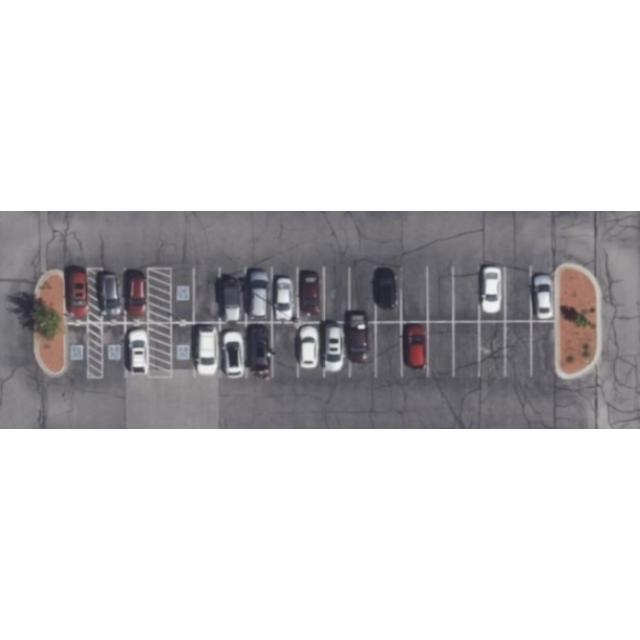Empty: (454, 266, 480, 322), (504, 322, 532, 374), (531, 322, 559, 374), (194, 268, 220, 322), (454, 322, 480, 376), (479, 322, 505, 376), (505, 266, 531, 320), (324, 268, 350, 320), (350, 268, 376, 320), (402, 268, 428, 320), (376, 323, 402, 375), (428, 322, 454, 374), (171, 324, 195, 378), (428, 268, 452, 322), (274, 322, 298, 376), (102, 324, 126, 376), (170, 268, 193, 322), (68, 325, 86, 379)
Parked: (246, 323, 274, 377), (348, 324, 376, 376), (222, 324, 248, 378), (298, 323, 324, 377), (401, 322, 427, 376), (220, 268, 246, 320), (246, 268, 272, 320), (272, 269, 298, 321), (325, 324, 351, 376), (480, 268, 506, 320), (196, 322, 220, 378), (102, 270, 126, 324), (300, 268, 324, 320), (376, 274, 402, 322), (532, 268, 556, 320), (68, 268, 88, 322), (128, 268, 148, 322), (128, 324, 148, 378)
